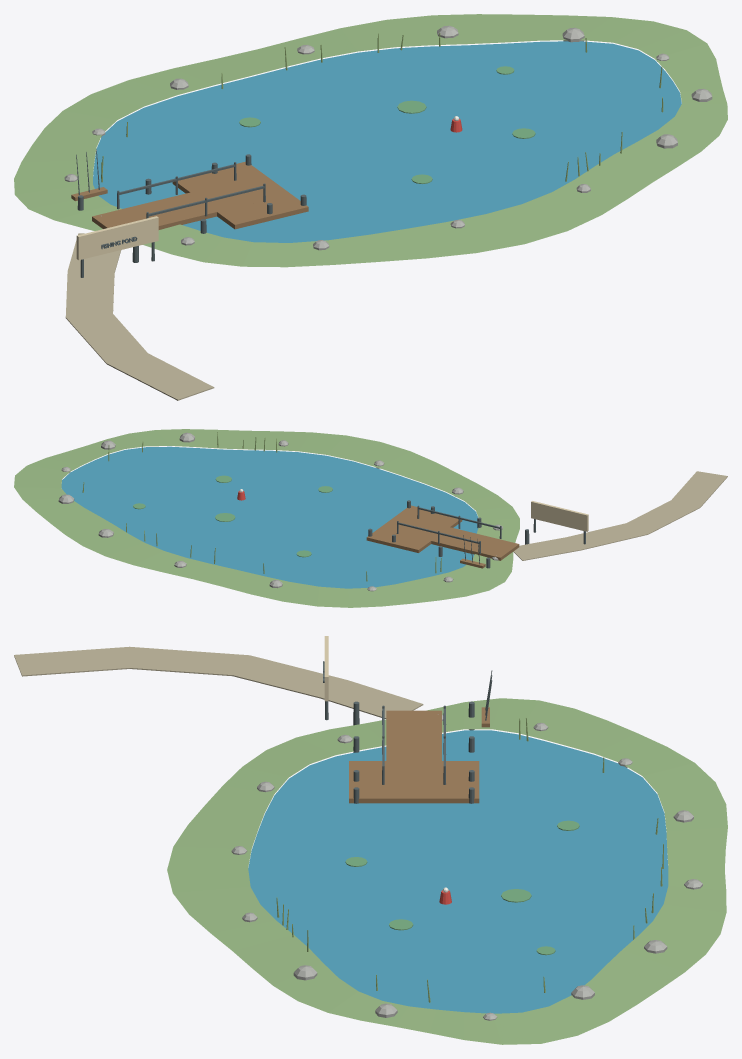
The model's file is fishing-pond.glb.
3 renders of one model, top to bottom at view 1: azimuth 30°, elevation 25°; view 2: azimuth 150°, elevation 25°; view 3: azimuth 270°, elevation 25°, orthographic. The views are drawn at different scales.
Parts seen in each view (by area): view 1: fishing_pond_water.001, fishing_pond_bank.001, fishing_pond_sidewalk.001, fishing_dock_head.001, fishing_dock_walk.001, fishing_sign_board.001; view 2: fishing_pond_water.001, fishing_pond_bank.001, fishing_pond_sidewalk.001, fishing_dock_walk.001, fishing_dock_head.001, fishing_sign_board.001; view 3: fishing_pond_water.001, fishing_pond_bank.001, fishing_pond_sidewalk.001, fishing_dock_head.001, fishing_dock_walk.001.
Boxes of the visible parts, x1=… form: fishing_pond_water.001: x1=93, y1=41, x2=681, y2=242; fishing_pond_bank.001: x1=14, y1=14, x2=727, y2=267; fishing_pond_sidewalk.001: x1=65, y1=233, x2=214, y2=400; fishing_dock_head.001: x1=172, y1=161, x2=308, y2=229; fishing_dock_walk.001: x1=92, y1=182, x2=256, y2=229; fishing_sign_board.001: x1=76, y1=216, x2=158, y2=260; fishing_pond_water.001: x1=61, y1=446, x2=477, y2=588; fishing_pond_bank.001: x1=14, y1=429, x2=519, y2=607; fishing_pond_sidewalk.001: x1=513, y1=471, x2=727, y2=560; fishing_dock_walk.001: x1=403, y1=520, x2=519, y2=560; fishing_dock_head.001: x1=366, y1=505, x2=462, y2=552; fishing_sign_board.001: x1=531, y1=501, x2=588, y2=531; fishing_pond_water.001: x1=248, y1=730, x2=668, y2=1013; fishing_pond_bank.001: x1=167, y1=698, x2=727, y2=1044; fishing_pond_sidewalk.001: x1=14, y1=646, x2=423, y2=718; fishing_dock_head.001: x1=349, y1=761, x2=479, y2=803; fishing_dock_walk.001: x1=386, y1=710, x2=441, y2=781.
Bounding box in the file's own units: 50.59 × 3.65 × 38.4.
